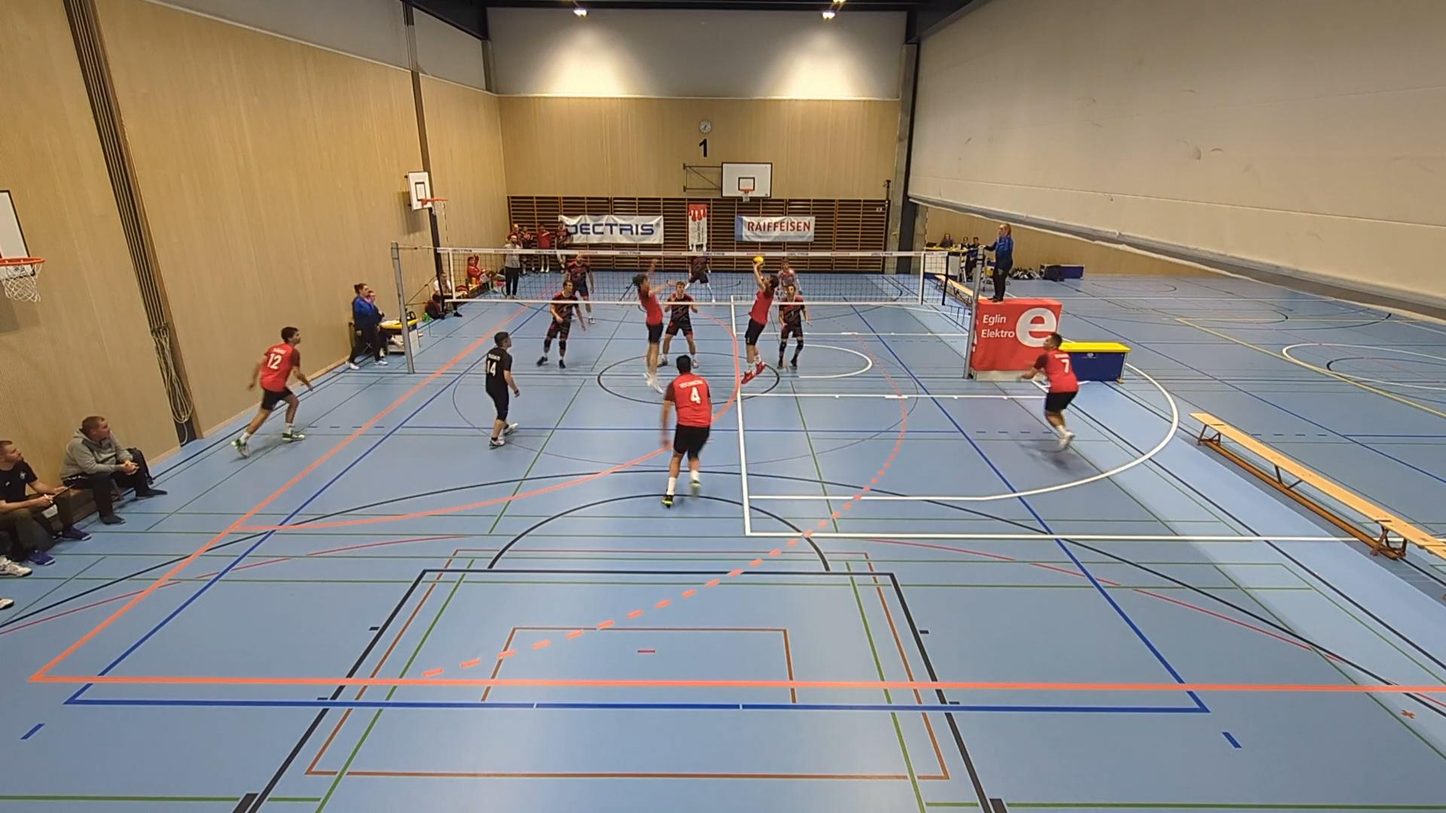Player: (232, 327, 313, 457), (662, 355, 712, 507), (1020, 333, 1078, 449), (484, 331, 520, 447), (633, 260, 663, 392), (536, 280, 578, 368), (660, 281, 697, 366), (778, 284, 810, 369), (564, 254, 594, 323), (688, 256, 715, 300), (777, 258, 797, 290)
Set: (738, 257, 787, 374)
ball: (755, 254, 767, 264)
